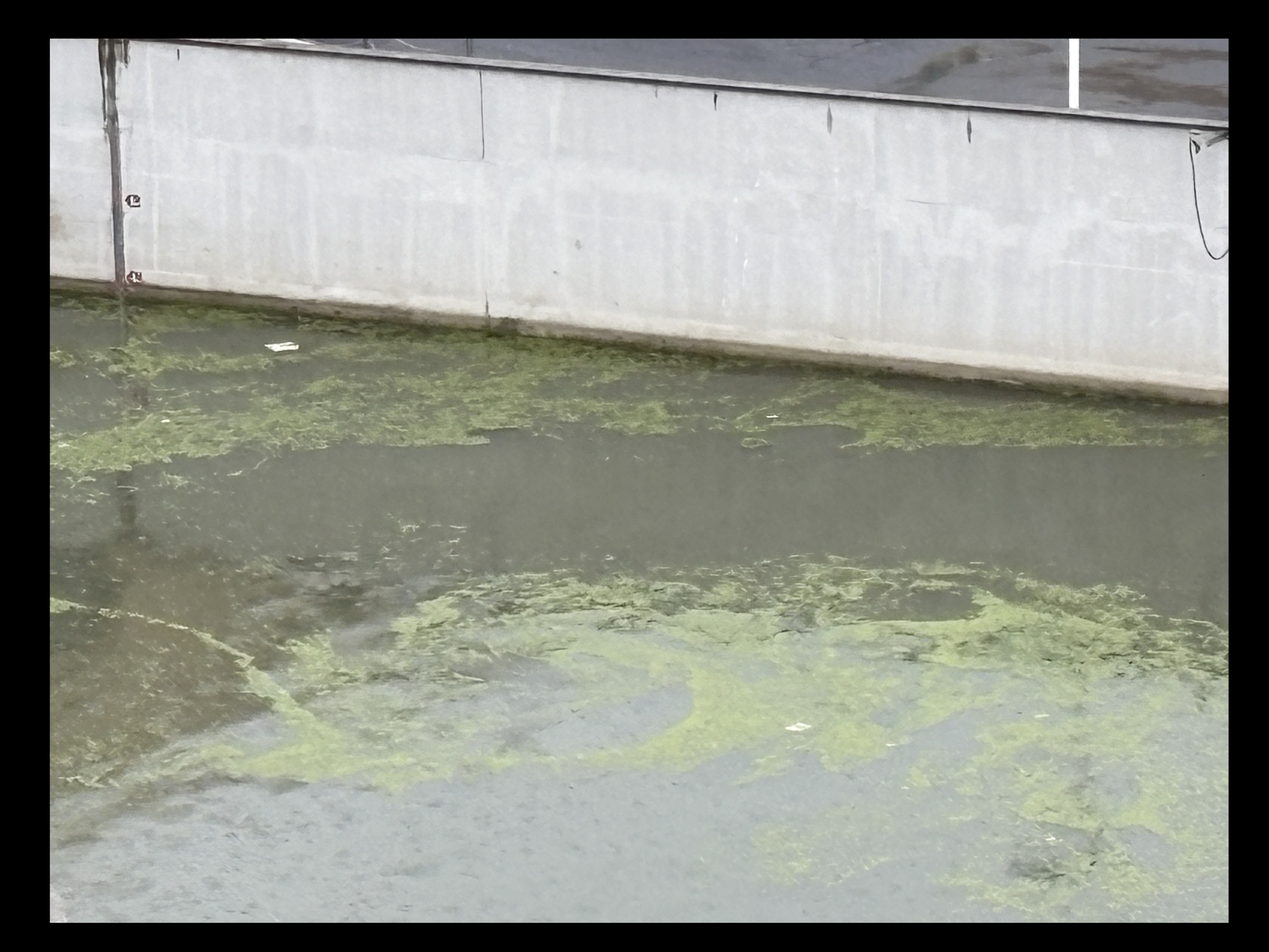Other: (990, 718, 1228, 877), (149, 380, 544, 447), (501, 572, 799, 655), (894, 604, 1171, 685), (288, 635, 437, 779), (853, 382, 1177, 447), (687, 667, 762, 757), (818, 672, 894, 758)
Plastic wastes: (263, 336, 302, 357), (785, 715, 811, 732)
